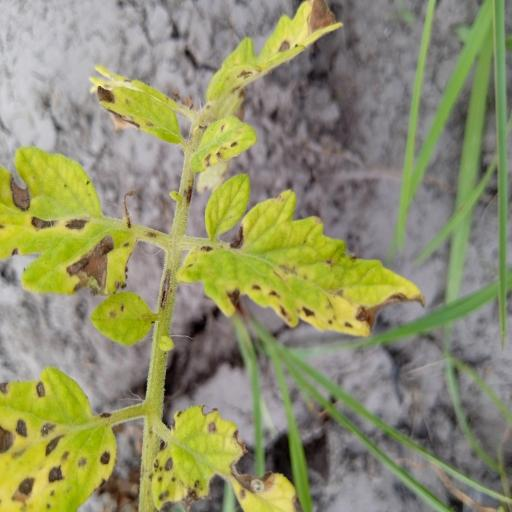Tomato_Brown_Spots: (175, 171, 423, 339), (0, 143, 149, 305), (189, 0, 344, 123), (0, 364, 126, 512), (148, 400, 299, 512), (88, 60, 186, 148)
